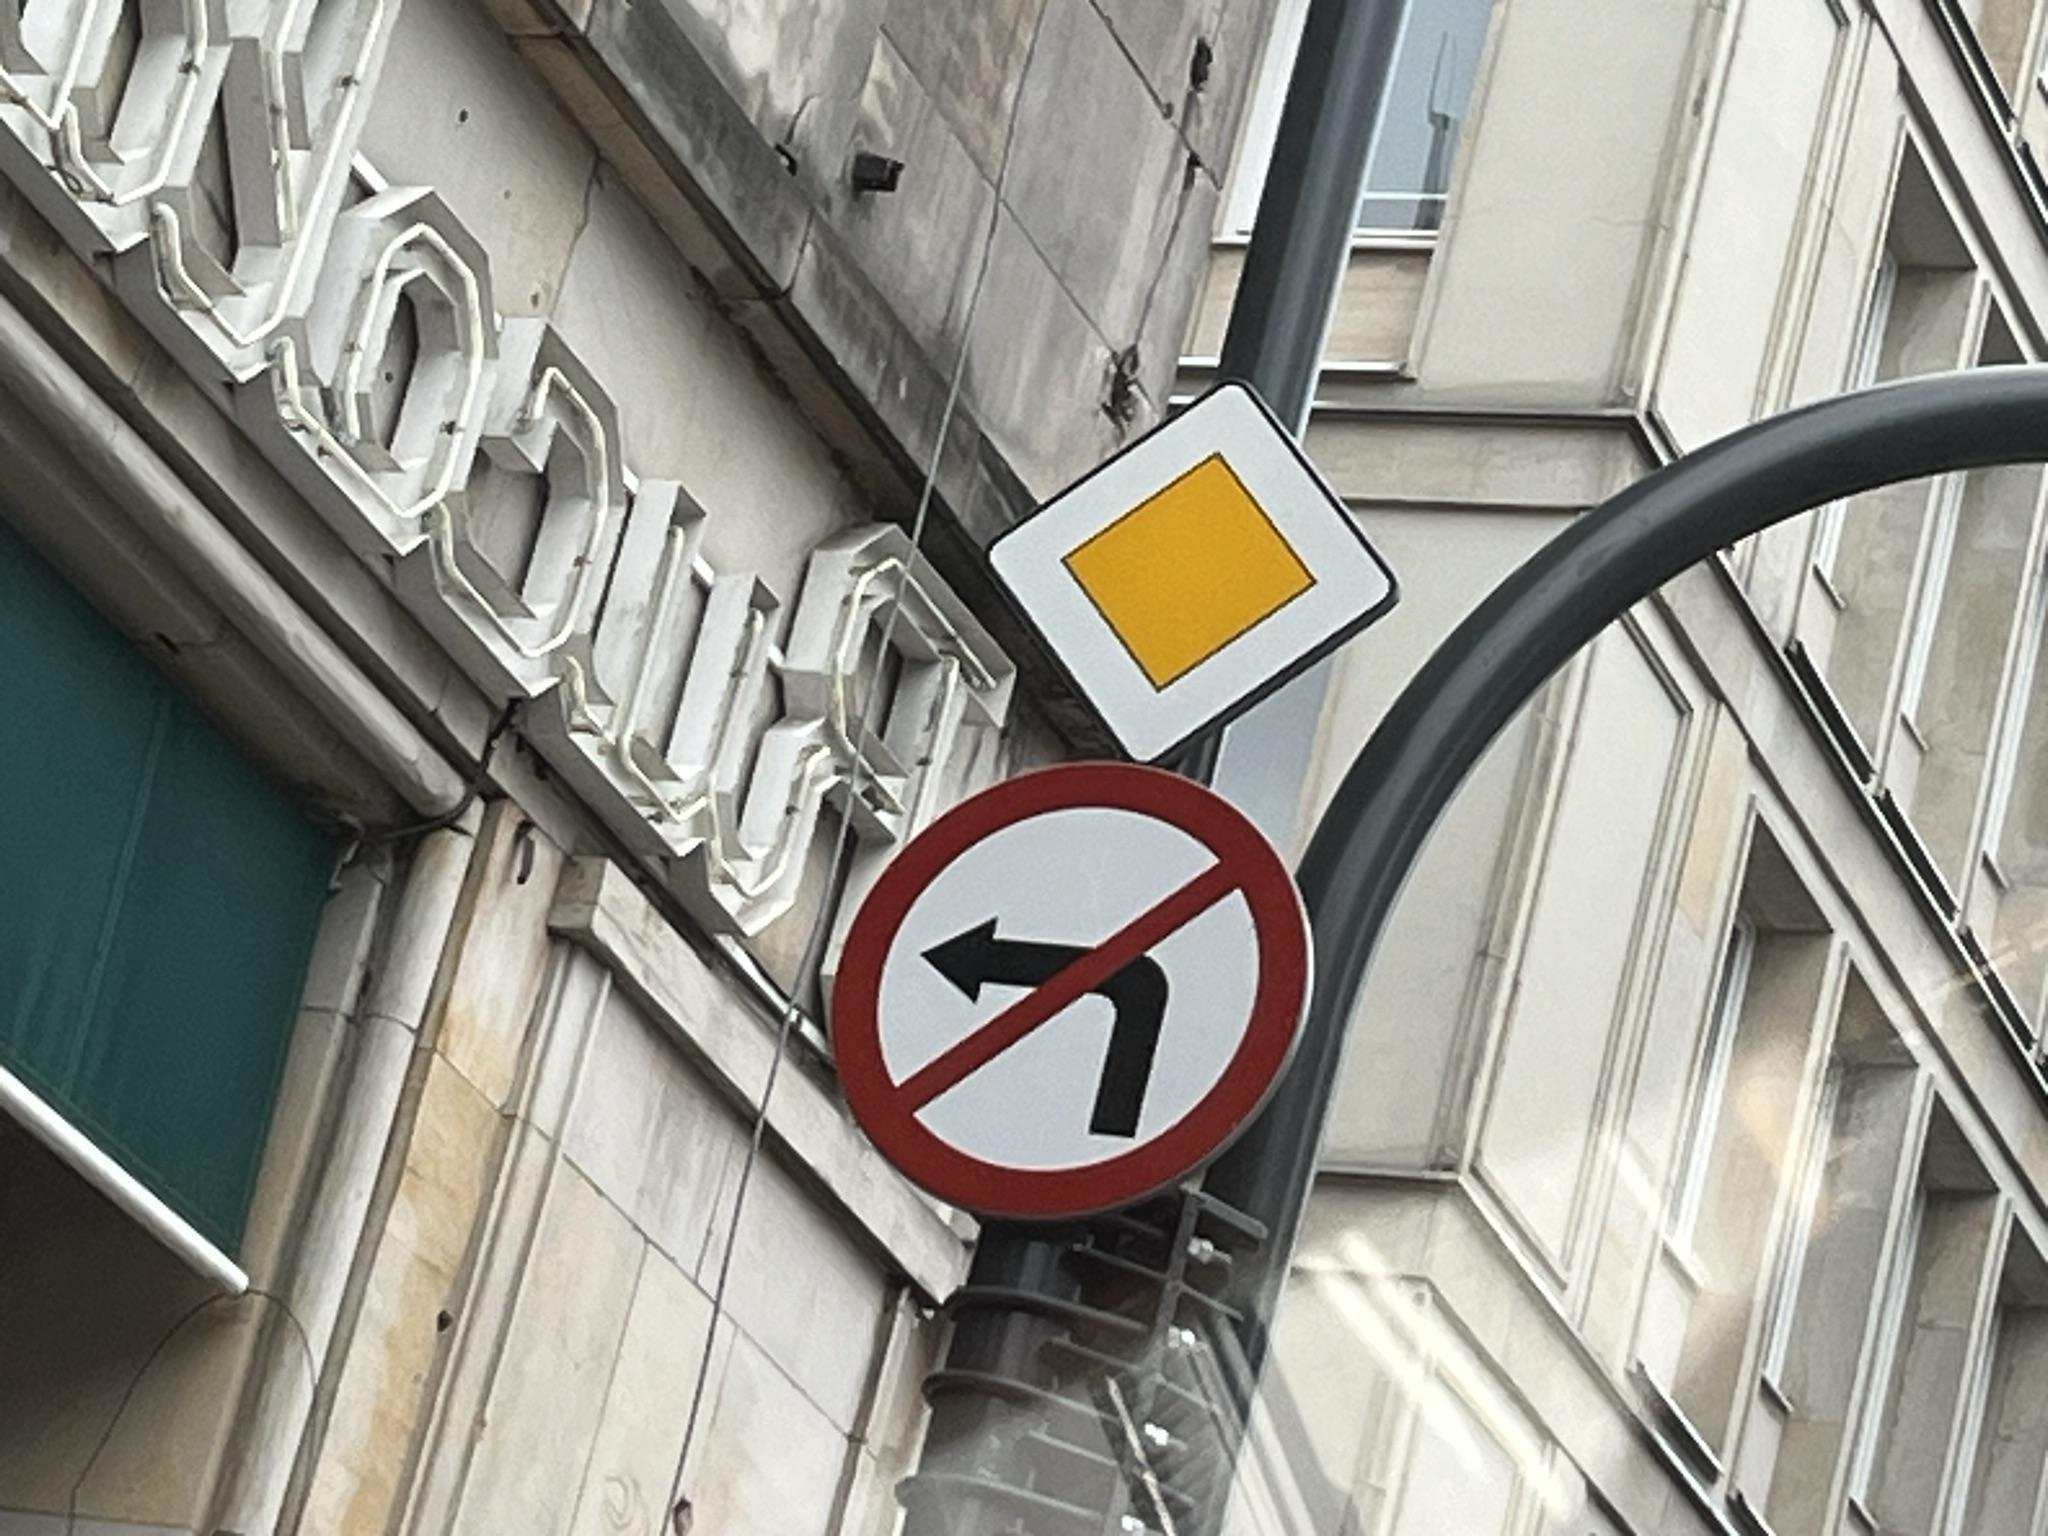information: (980, 374, 1401, 766)
prohibitory: (826, 757, 1322, 1226)
